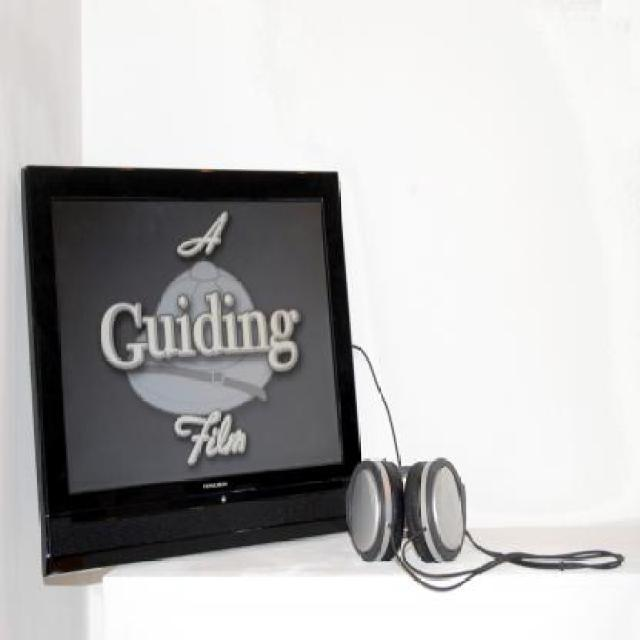earphone: (355, 443, 537, 587)
tablet: (13, 140, 360, 560)
